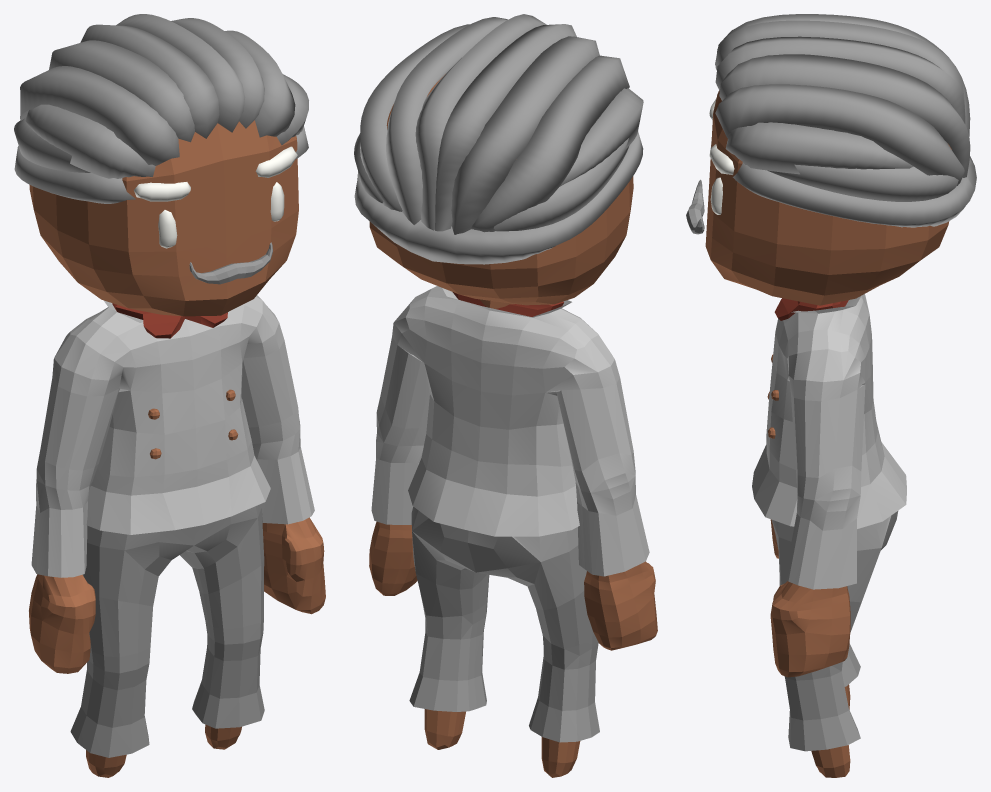
The model's file is debout-chef-male.glb.
The picture shows the model from 3 angles, left to right: view 1: azimuth 30°, elevation 25°; view 2: azimuth 150°, elevation 25°; view 3: azimuth 270°, elevation 25°; orthographic projection.
Parts seen in each view (by area): view 1: Cube004_1, Cube004, Cube004_5, Cube004_3, Cube004_4, Cube004_2; view 2: Cube004_1, Cube004_5, Cube004_3, Cube004, Cube004_2; view 3: Cube004_5, Cube004_1, Cube004, Cube004_3, Cube004_4, Cube004_2.
Boxes of the visible parts, box(x1,y1,x2,y2) form: Cube004_1: box(31, 295, 314, 577); Cube004: box(29, 120, 325, 777); Cube004_5: box(14, 14, 308, 284); Cube004_3: box(70, 504, 264, 757); Cube004_4: box(134, 146, 297, 248); Cube004_2: box(112, 303, 227, 338); Cube004_1: box(371, 286, 649, 576); Cube004_5: box(354, 14, 643, 264); Cube004_3: box(409, 507, 599, 742); Cube004: box(369, 74, 657, 777); Cube004_2: box(452, 292, 563, 316); Cube004_5: box(686, 14, 976, 234); Cube004_1: box(752, 294, 906, 589); Cube004: box(705, 90, 951, 777); Cube004_3: box(772, 511, 898, 751); Cube004_4: box(709, 98, 734, 214); Cube004_2: box(774, 298, 848, 320).
Size of the model in its own units: 0.7088 by 1.74 by 0.6384.
